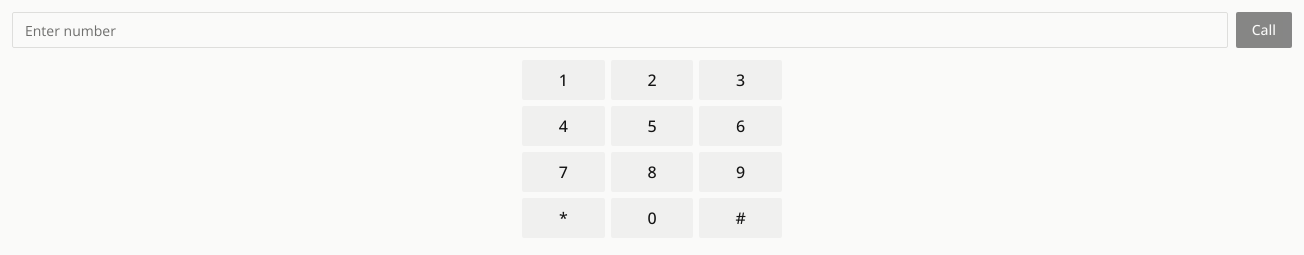
Test: DialPad — idle dialer › appends keypad presses to the number field
The image size is (1304, 255).
Click the button "7".
click(563, 172)  # box x1=522 y1=152 x2=605 y2=192
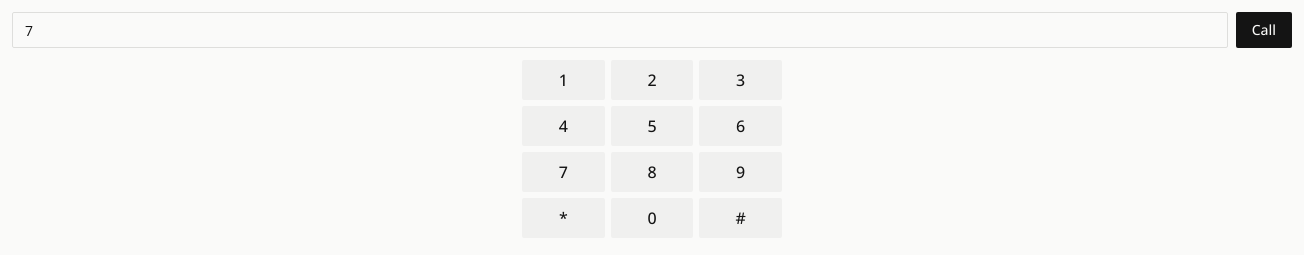
Click the button "2".
click(652, 80)  # box x1=611 y1=60 x2=693 y2=100
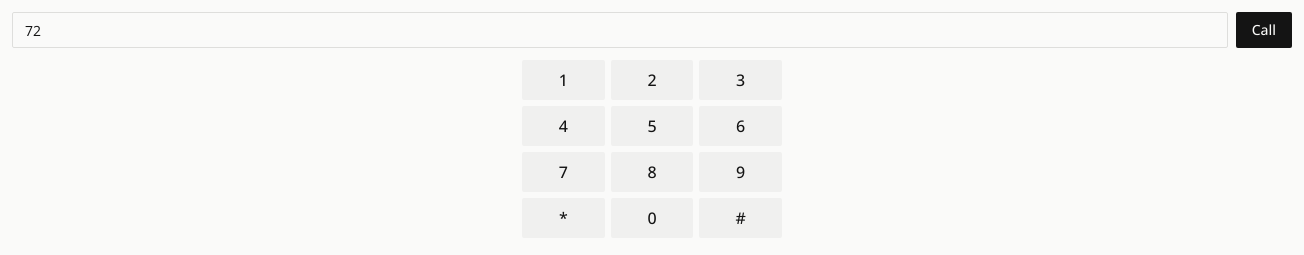
Click the button "*".
click(563, 218)  # box x1=522 y1=198 x2=605 y2=238
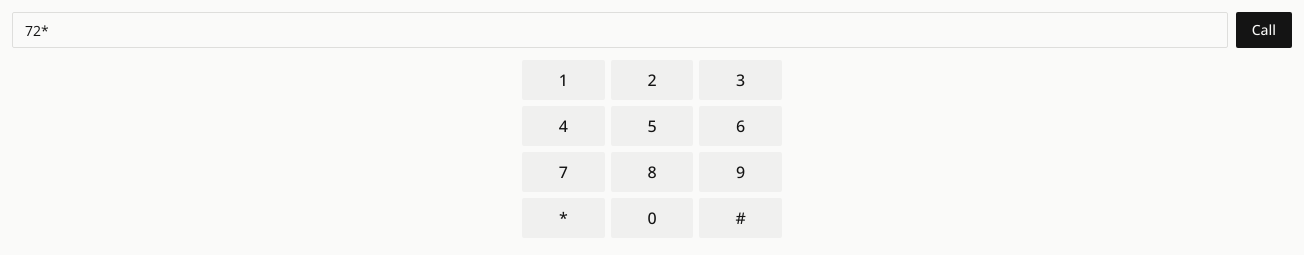
Click the button "#".
click(741, 218)  # box x1=699 y1=198 x2=782 y2=238
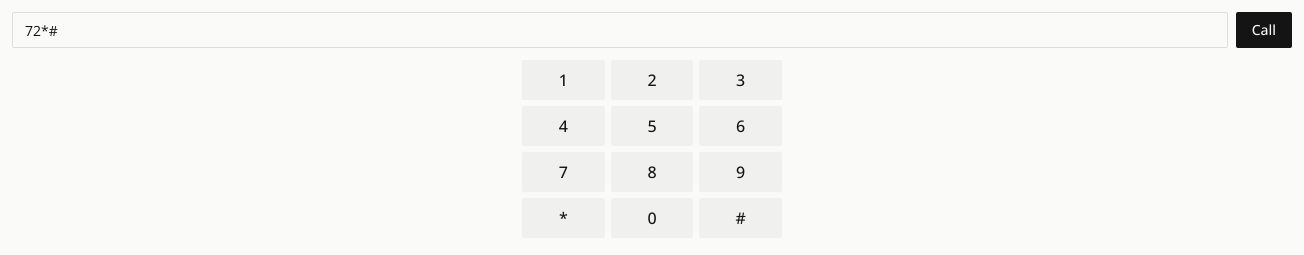
Check: the field named "Phone number" holds "72*#", box x1=12 y1=12 x2=1228 y2=48
